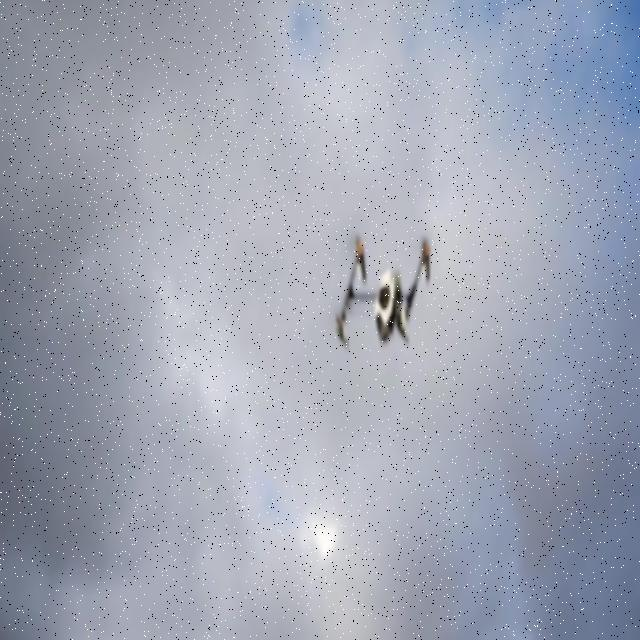UAV: (333, 231, 431, 350)
